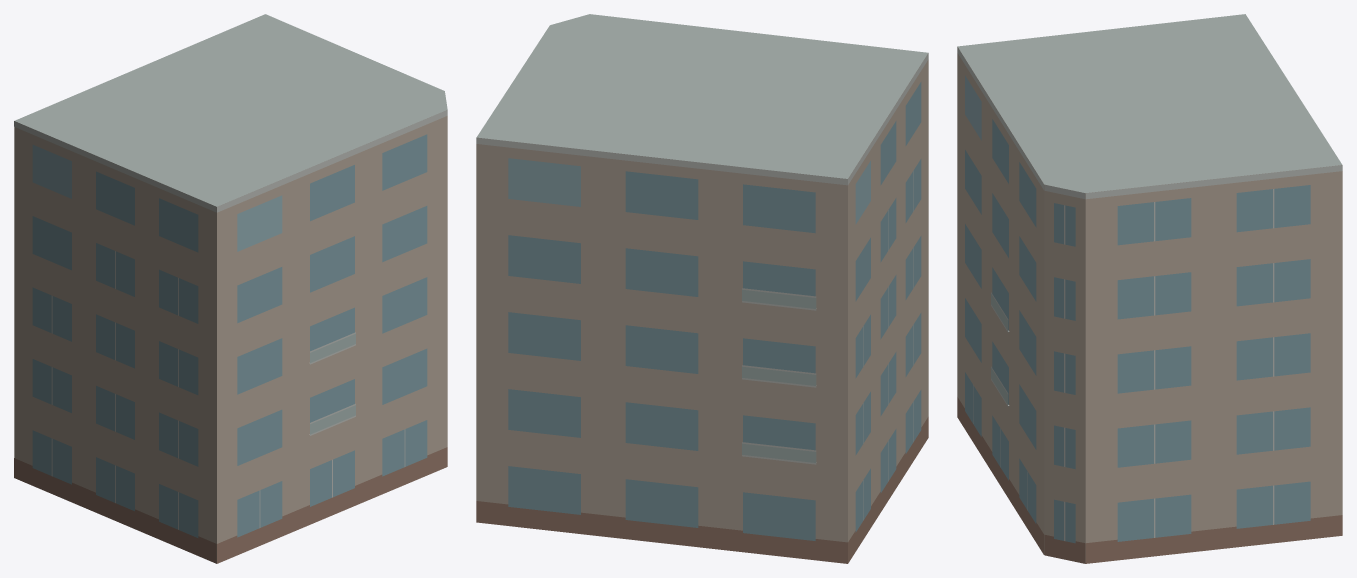
The model's file is survey-upis-32703257.glb.
3 views of the same model, side by side, from view 1: azimuth 30°, elevation 25°; view 2: azimuth 150°, elevation 25°; view 3: azimuth 270°, elevation 25° (orthographic). The views are drawn at different scales.
Parts seen in each view (by area): view 1: survey-upis-32703257.tmp; view 2: survey-upis-32703257.tmp; view 3: survey-upis-32703257.tmp.
Part boxes in pixels (x1,y1,x2,y2): survey-upis-32703257.tmp: [14, 14, 447, 563]; survey-upis-32703257.tmp: [476, 14, 928, 563]; survey-upis-32703257.tmp: [957, 14, 1342, 563].
Bounding box in the file's own units: 15.3 × 14.75 × 13.9.
